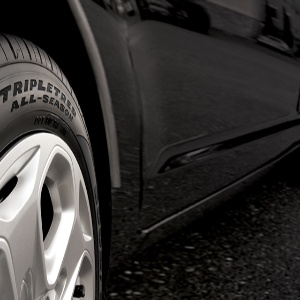train: (3, 29, 113, 300)
